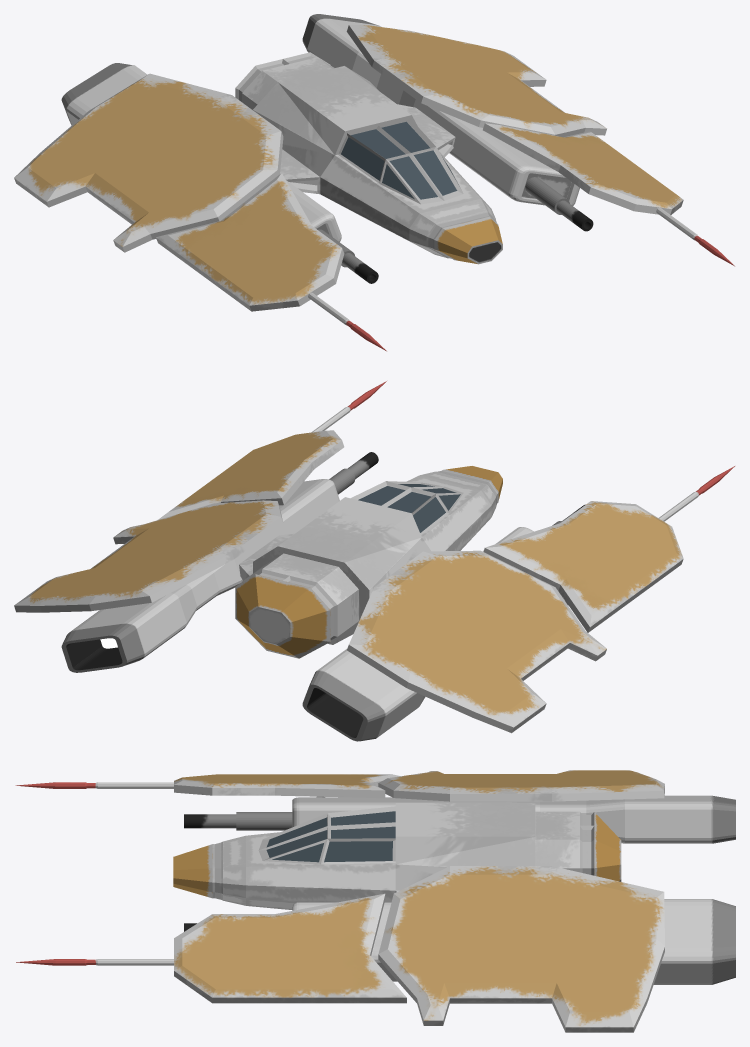
The model's file is Spaceship.fbx.
3 renders of one model, top to bottom at view 1: azimuth 30°, elevation 25°; view 2: azimuth 150°, elevation 25°; view 3: azimuth 270°, elevation 25°, orthographic. The views are drawn at different scales.
Parts seen in each view (by area): view 1: Spaceship; view 2: Spaceship; view 3: Spaceship.
Boxes of the visible parts, bbox=[...] form: Spaceship: bbox=[14, 14, 734, 351]; Spaceship: bbox=[14, 381, 734, 741]; Spaceship: bbox=[15, 770, 735, 1032].
Bounding box in the file's own units: 1089 × 180 × 1310.
